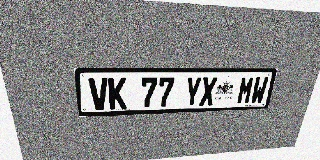7: (157, 77, 175, 108), (140, 77, 157, 108)
K: (108, 78, 127, 109)
M: (236, 76, 255, 104)
V: (88, 78, 109, 110)
W: (250, 76, 269, 104)
X: (199, 77, 218, 106)
Y: (184, 77, 202, 107)
